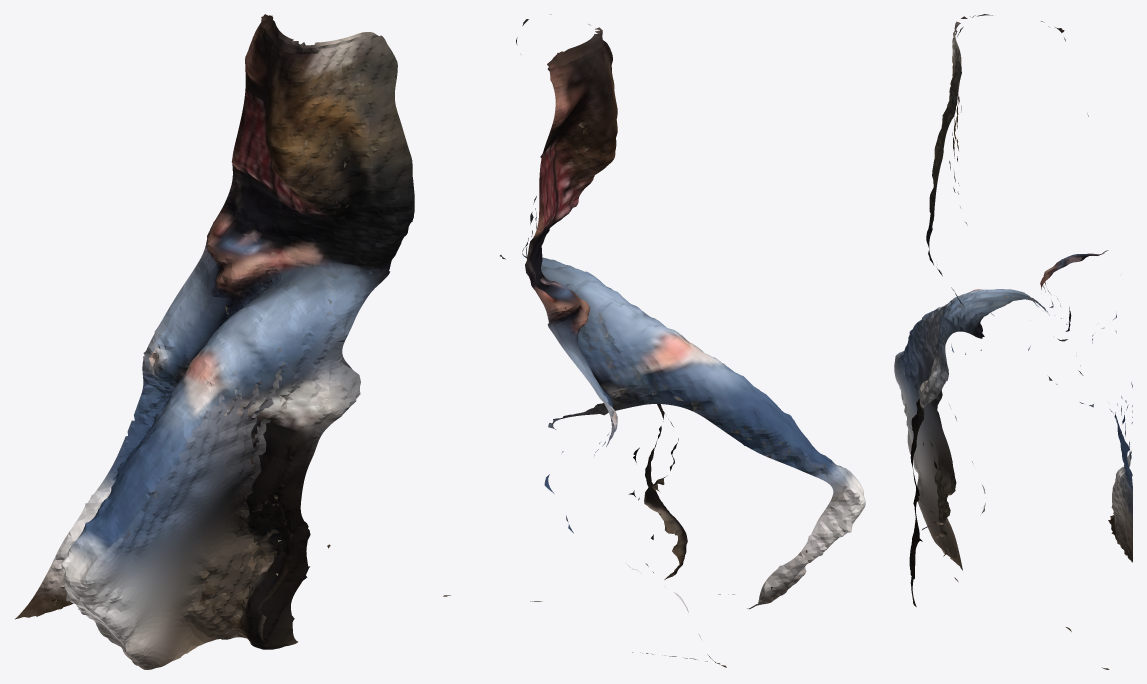
3 views of the same model, side by side, from view 1: azimuth 30°, elevation 25°; view 2: azimuth 150°, elevation 25°; view 3: azimuth 270°, elevation 25° (orthographic). The views are drawn at different scales.
Bounding box in the file's own units: 0.6445 × 0.9974 × 0.3574.
1 material, 1 textured.
